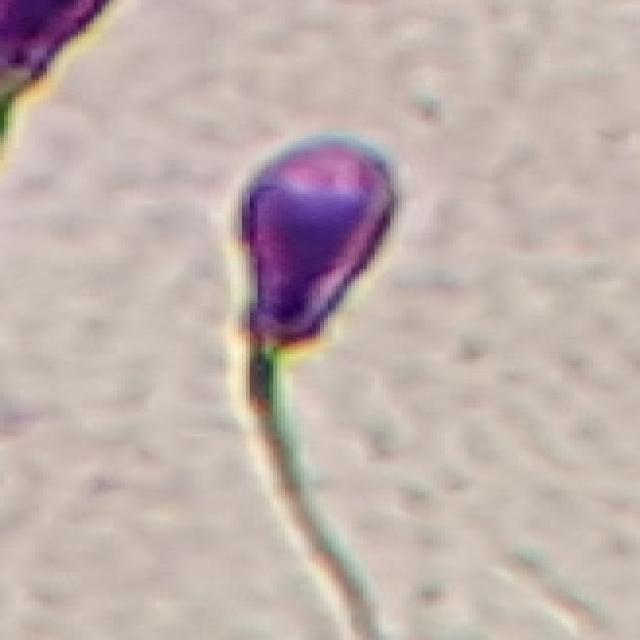abnormal sperm: (215, 134, 410, 626)
